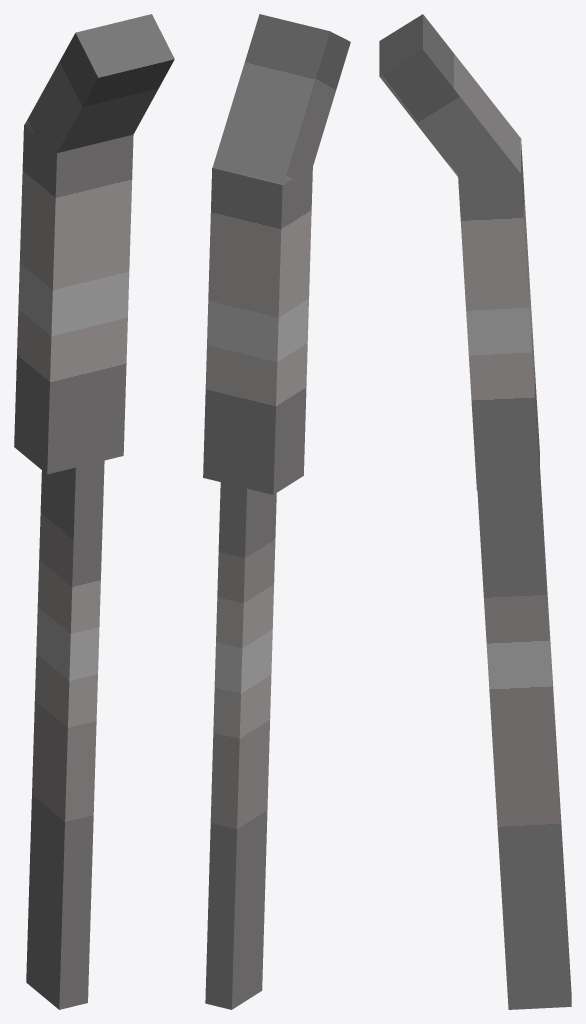
Rendered from combination_lever_otherside.obj.
The picture shows the model from 3 angles, left to right: view 1: azimuth 30°, elevation 25°; view 2: azimuth 150°, elevation 25°; view 3: azimuth 270°, elevation 25°; orthographic projection. The views are drawn at different scales.
Parts seen in each view (by area): view 1: cuboid; view 2: cuboid; view 3: cuboid.
Part boxes in pixels (box(x1,y1,x2,y2)): cuboid: box(14, 14, 174, 1009); cuboid: box(203, 14, 350, 1009); cuboid: box(379, 14, 571, 1009).
Bounding box in the file's own units: 0.1 × 1.27 × 0.2283.
